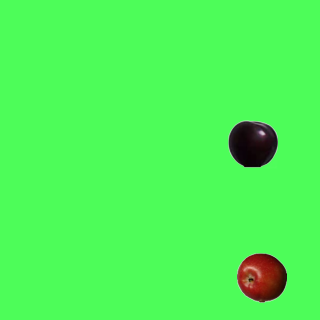Apple Braeburn: (236, 252, 286, 302)
Cherry Wax Black: (227, 118, 277, 168)
